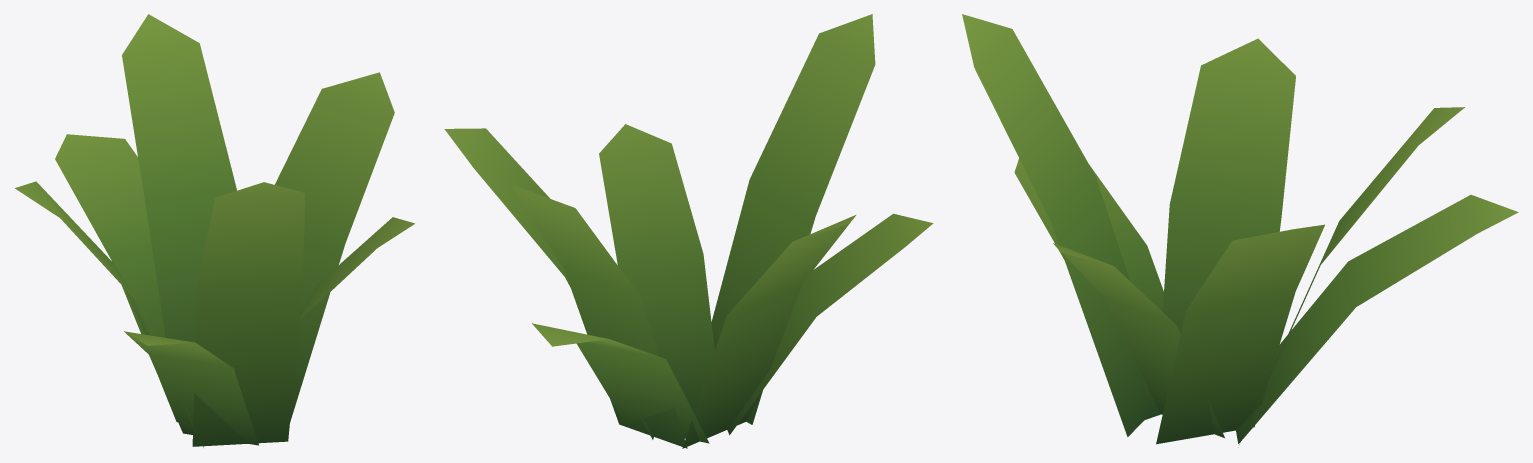
Rendered from SM_GrassTuft1.fbx.
3 renders of one model, left to right at view 1: azimuth 30°, elevation 25°; view 2: azimuth 150°, elevation 25°; view 3: azimuth 270°, elevation 25°, orthographic. The views are drawn at different scales.
Visible parts, largest first — view 1: SM_GrassTuft1; view 2: SM_GrassTuft1; view 3: SM_GrassTuft1.
Part boxes in pixels (x1=…): SM_GrassTuft1: x1=15, y1=14, x2=414, y2=447; SM_GrassTuft1: x1=444, y1=14, x2=933, y2=448; SM_GrassTuft1: x1=962, y1=14, x2=1518, y2=447.
Bounding box in the file's own units: 0.2769 × 0.2356 × 0.3212.
